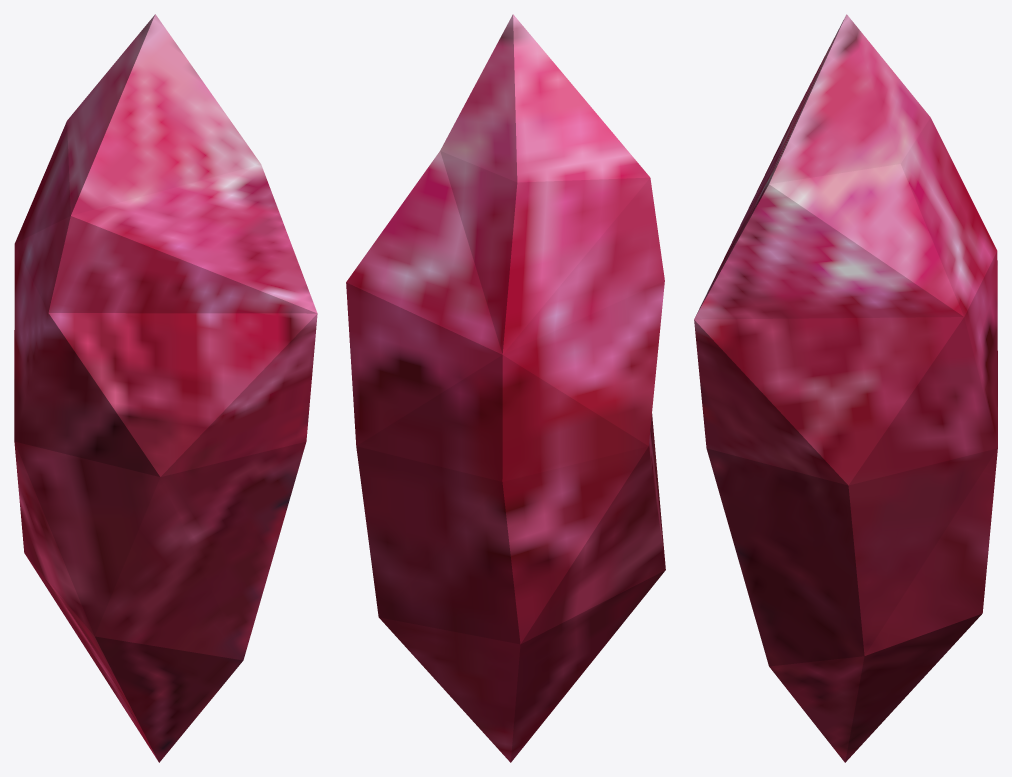
The model's file is crystalbare.fbx.
3 views of the same model, side by side, from view 1: azimuth 30°, elevation 25°; view 2: azimuth 150°, elevation 25°; view 3: azimuth 270°, elevation 25° (orthographic).
Parts seen in each view (by area): view 1: obj0; view 2: obj0; view 3: obj0.
Boxes of the visible parts, x1,y1,x2,y2 form: obj0: (14, 14, 317, 762); obj0: (346, 14, 665, 762); obj0: (694, 14, 997, 762).
Size of the model in its own units: 0.397 by 0.9876 by 0.3638.
